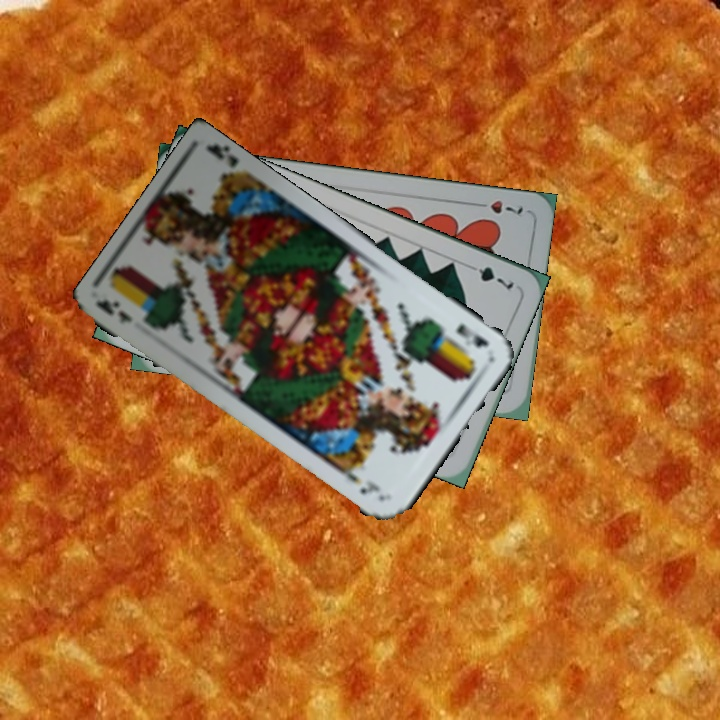EK: (93, 295, 135, 327), (452, 319, 491, 351)
G7: (462, 259, 517, 292)
H7: (469, 196, 526, 217)
